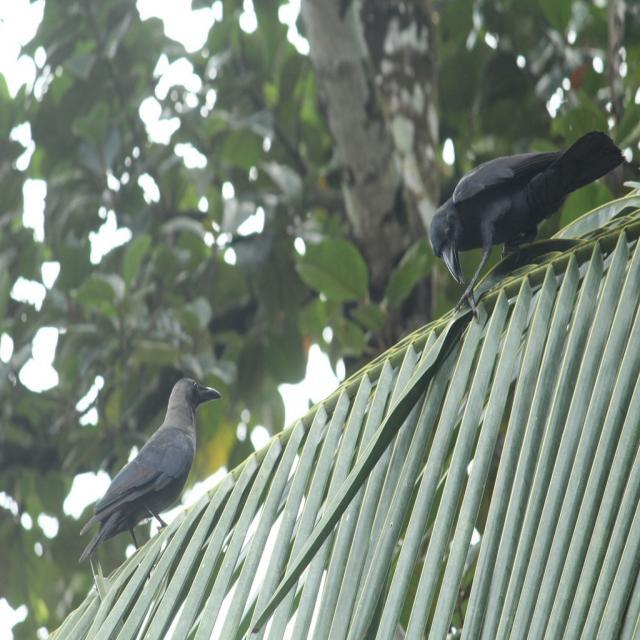crow: (427, 126, 633, 328), (77, 374, 223, 585)
